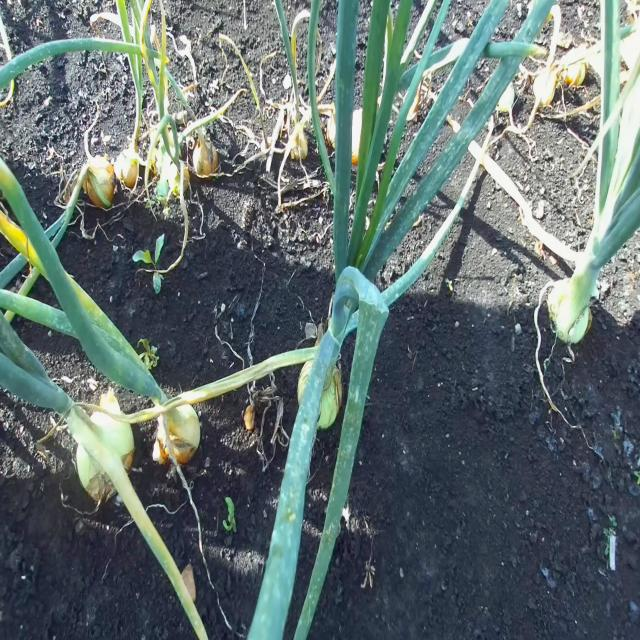onion: (68, 404, 134, 504), (296, 357, 342, 431), (83, 112, 116, 210), (153, 400, 200, 467), (192, 134, 219, 178)
